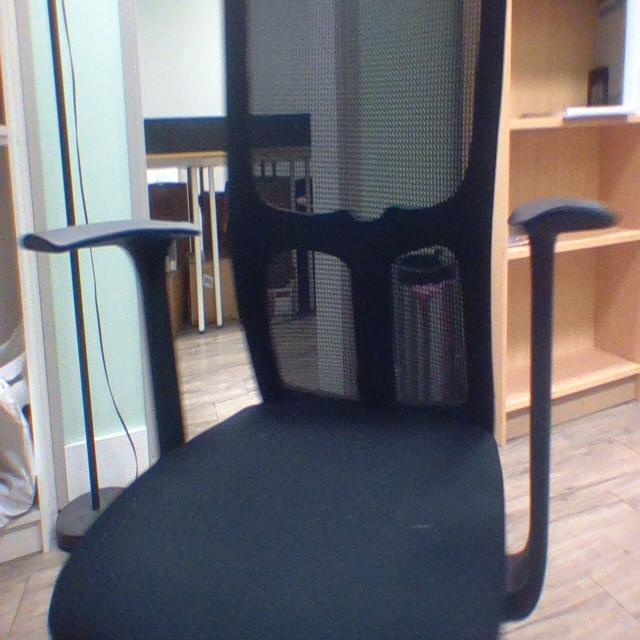black-chair: (37, 4, 617, 639)
